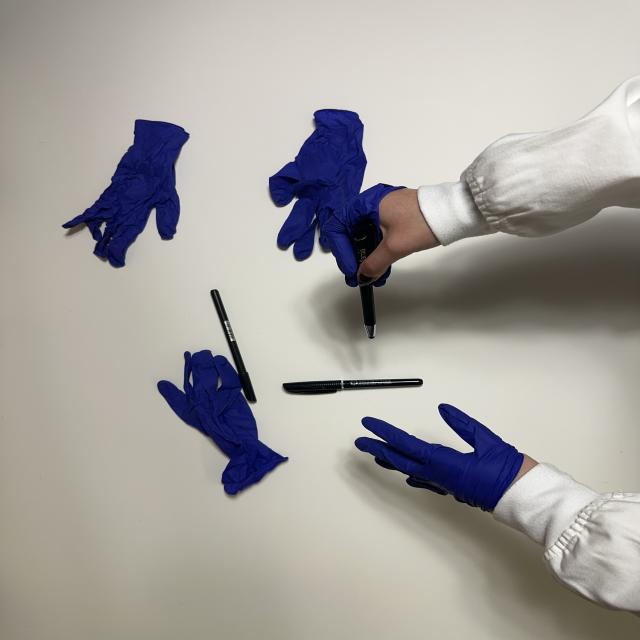glove_partial: (355, 399, 548, 514), (318, 182, 448, 288)
